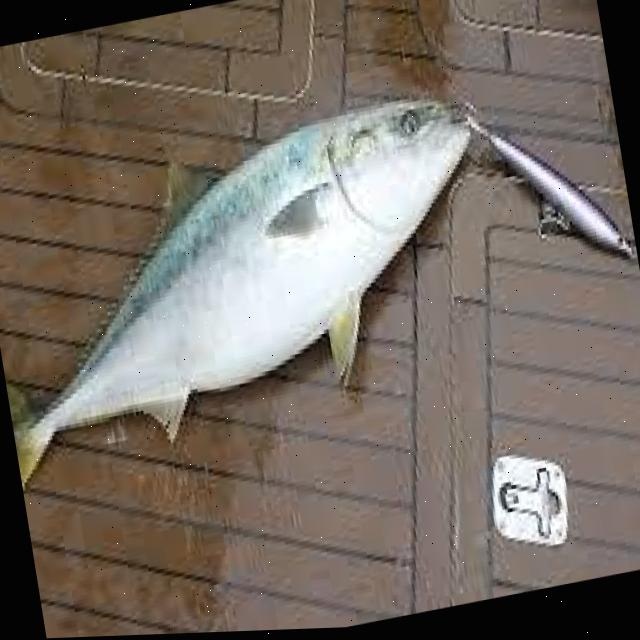Kingfish: (0, 82, 515, 495)
